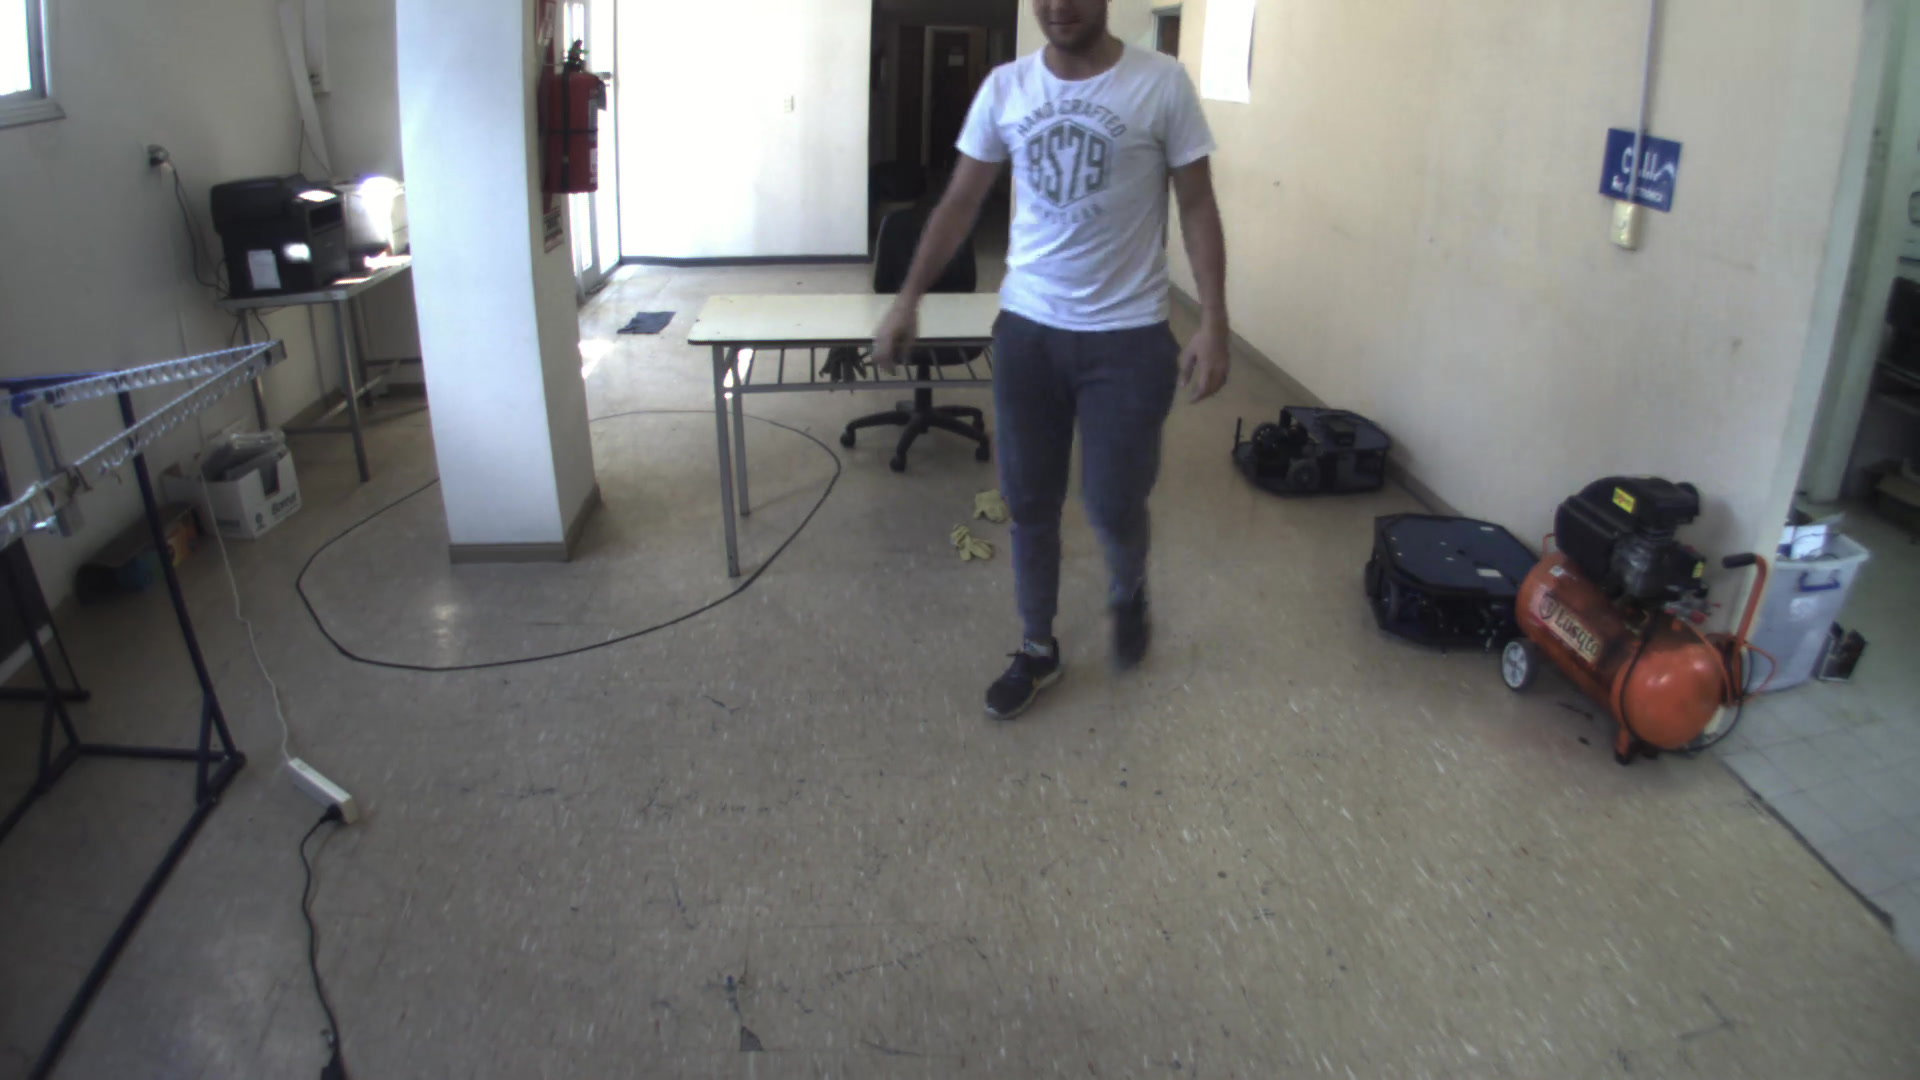hand: (851, 298, 924, 377), (1175, 319, 1242, 401)
